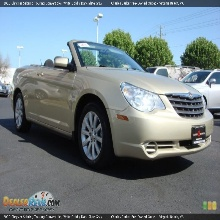no damage: (10, 40, 214, 167), (182, 69, 220, 112)
